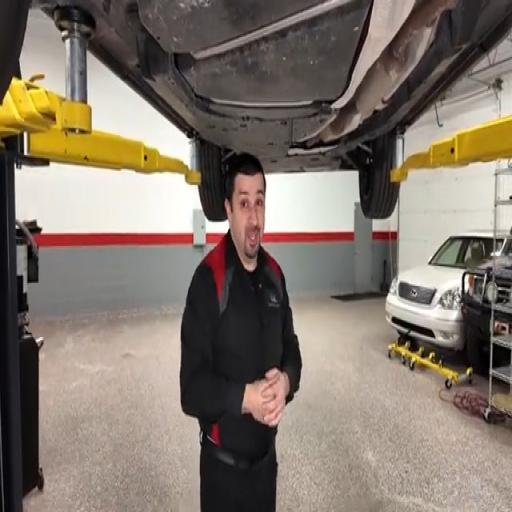bumper: (386, 295, 464, 349)
emblem: (411, 289, 417, 297)
fog_light: (486, 282, 498, 302)
grille: (398, 282, 435, 305), (496, 279, 511, 304)
headlight: (438, 288, 461, 310), (388, 278, 397, 294)
hood: (398, 265, 463, 291), (477, 256, 511, 278)
tire: (359, 136, 399, 219), (0, 0, 30, 103), (197, 141, 227, 221), (465, 325, 488, 375)
windshield: (430, 237, 504, 270)
